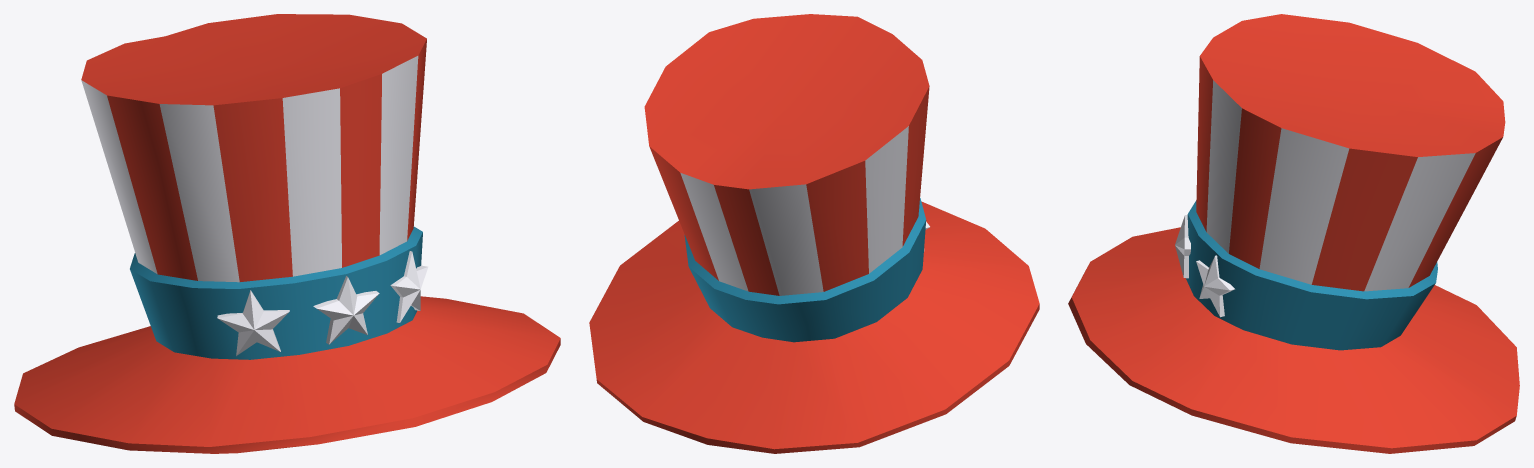
File: hat_usa.fbx
3 renders of one model, left to right at view 1: azimuth 30°, elevation 25°; view 2: azimuth 150°, elevation 25°; view 3: azimuth 270°, elevation 25°, orthographic. The views are drawn at different scales.
Visible parts, largest first — view 1: hat_usa; view 2: hat_usa; view 3: hat_usa.
Part boxes in pixels (x1,y1,x2,y2): hat_usa: [14, 14, 560, 453]; hat_usa: [589, 14, 1039, 453]; hat_usa: [1068, 14, 1519, 453].
Bounding box in the file's own units: 1.03 × 0.8103 × 0.9781.
